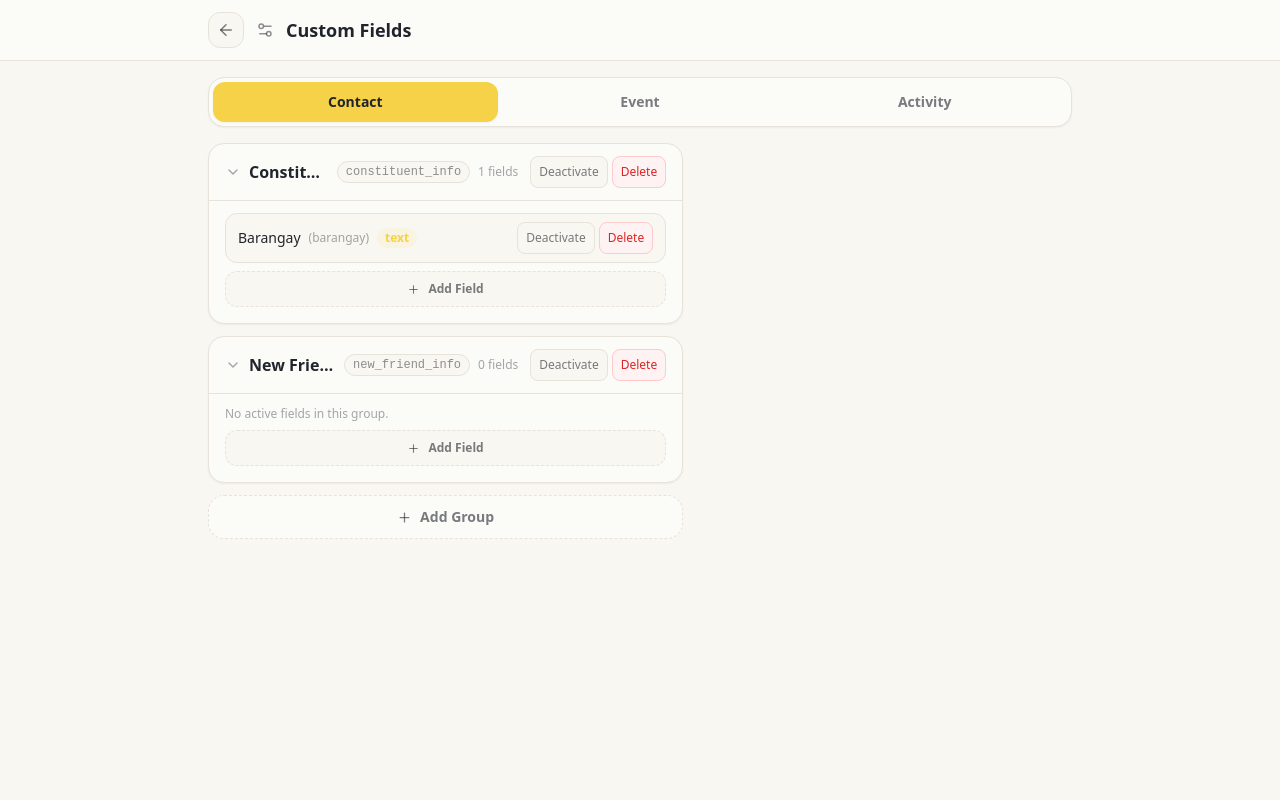
Test: CustomFieldsPage — hard-delete ConfirmDialog (AC3) › hard-delete group: opens ConfirmDialog (probe returns 204, no data)
Expected: the text "Constituent Info" is shown, x1=249 y1=160 x2=329 y2=184
Click the button with aria-label "delete group": (639, 172) x1=612 y1=156 x2=666 y2=188
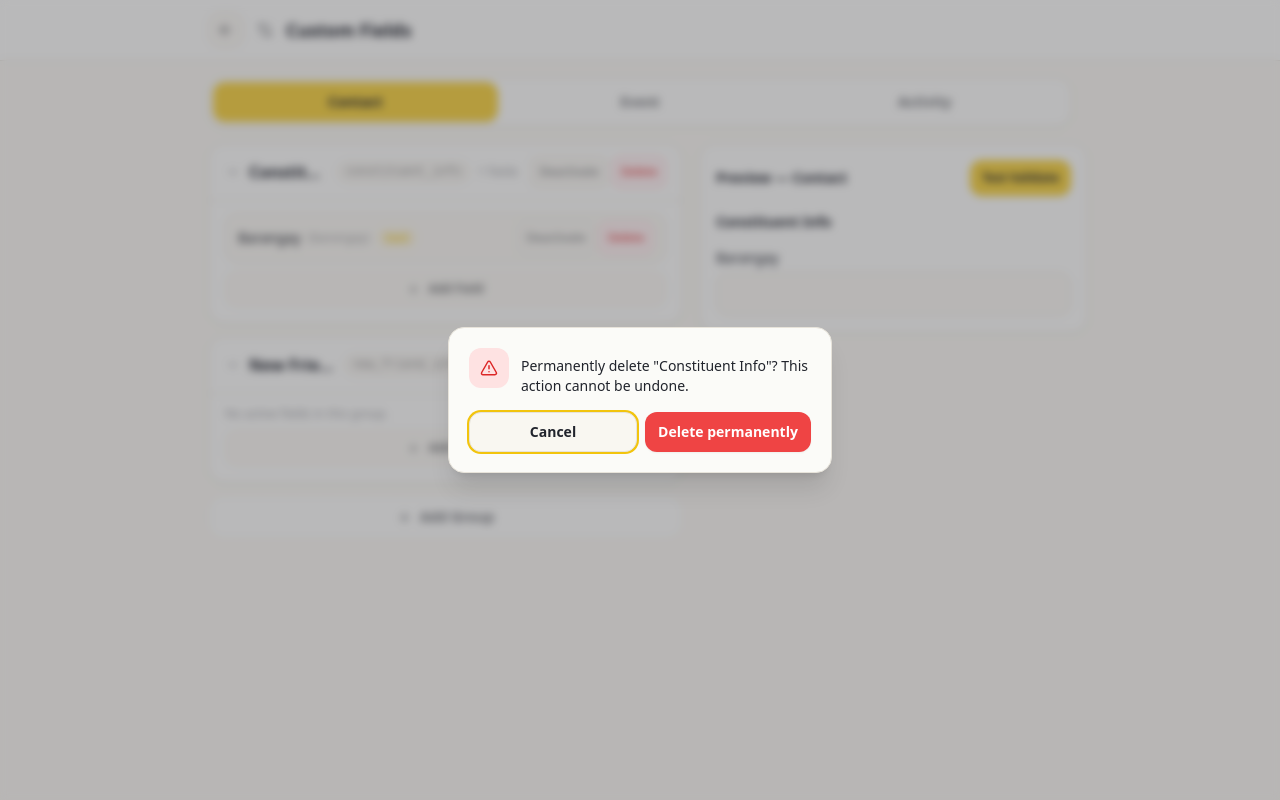
Result: the dialog is shown at x1=448 y1=327 x2=832 y2=473
